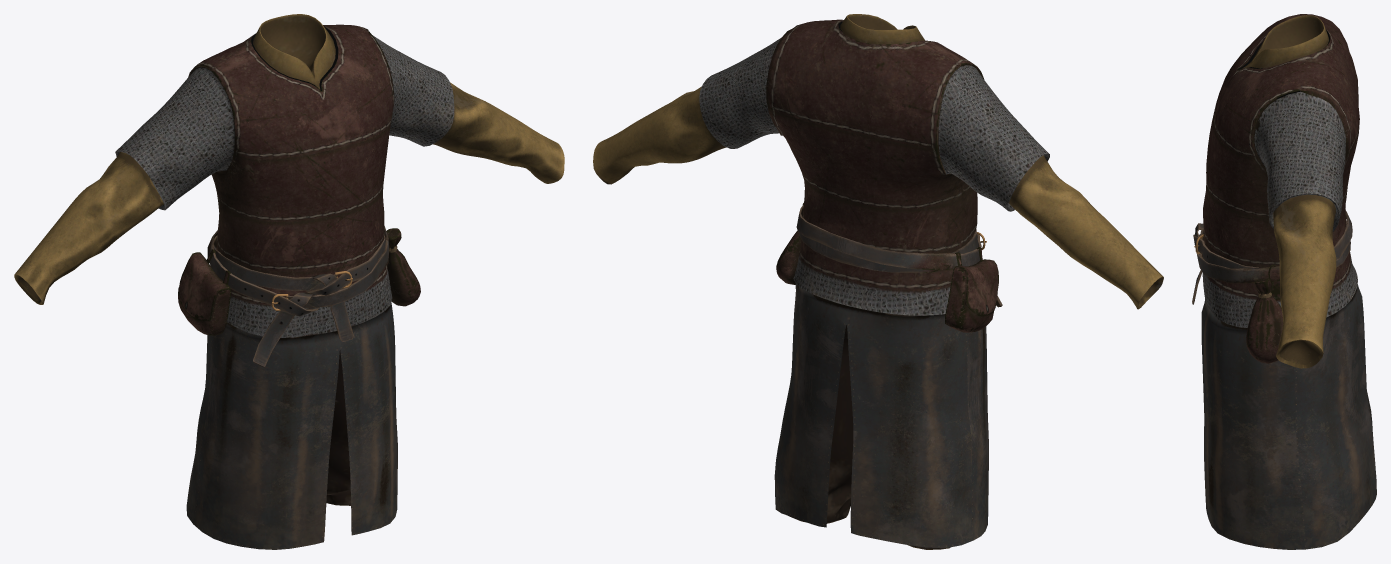
File: cts_rohan_armor444.fbx
3 views of the same model, side by side, from view 1: azimuth 30°, elevation 25°; view 2: azimuth 150°, elevation 25°; view 3: azimuth 270°, elevation 25° (orthographic). The views are drawn at different scales.
Visible parts, largest first — view 1: cts_rohan_armor444; view 2: cts_rohan_armor444; view 3: cts_rohan_armor444.
Boxes of the visible parts, box(x1,y1,x2,y2) form: cts_rohan_armor444: box(14, 14, 564, 549); cts_rohan_armor444: box(593, 14, 1163, 549); cts_rohan_armor444: box(1192, 14, 1376, 549).
Size of the model in its own units: 1.38 by 0.4125 by 1.18.
Materials: 1 (1 with a texture image).
